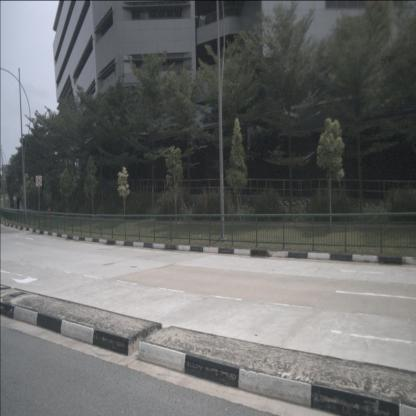human-pedestrian-adult: (10, 192, 15, 214), (16, 193, 21, 214)
